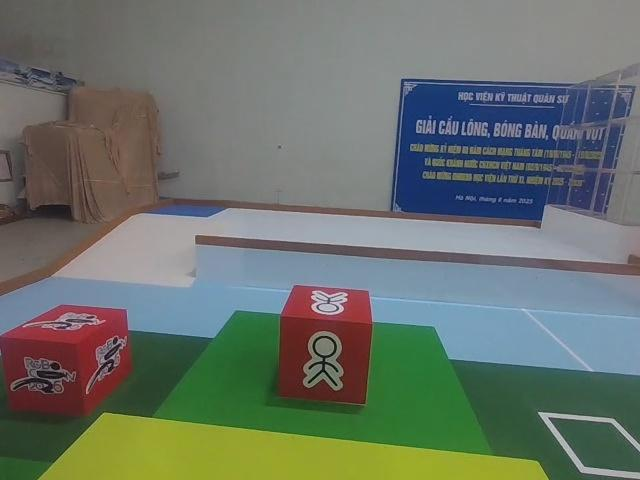R1: (3, 303, 130, 416)
R2 Real: (277, 284, 375, 411)
